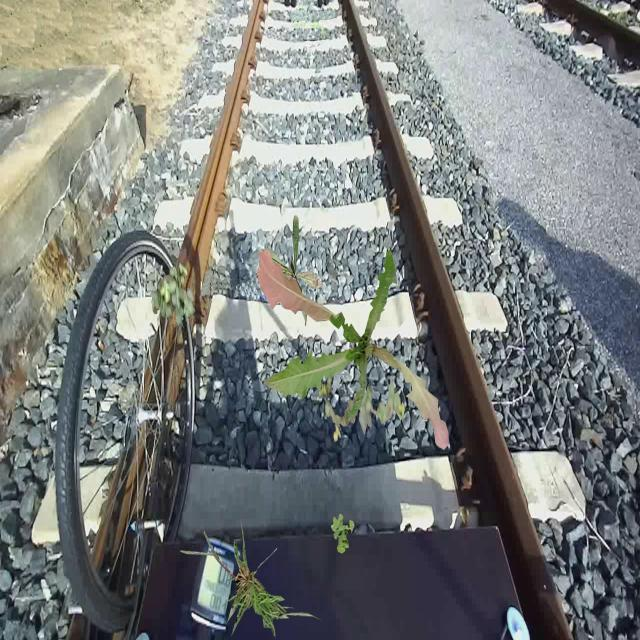Plant: (257, 248, 450, 450), (180, 520, 324, 640), (260, 215, 324, 327), (319, 373, 406, 442), (151, 261, 194, 328), (331, 513, 355, 554)
